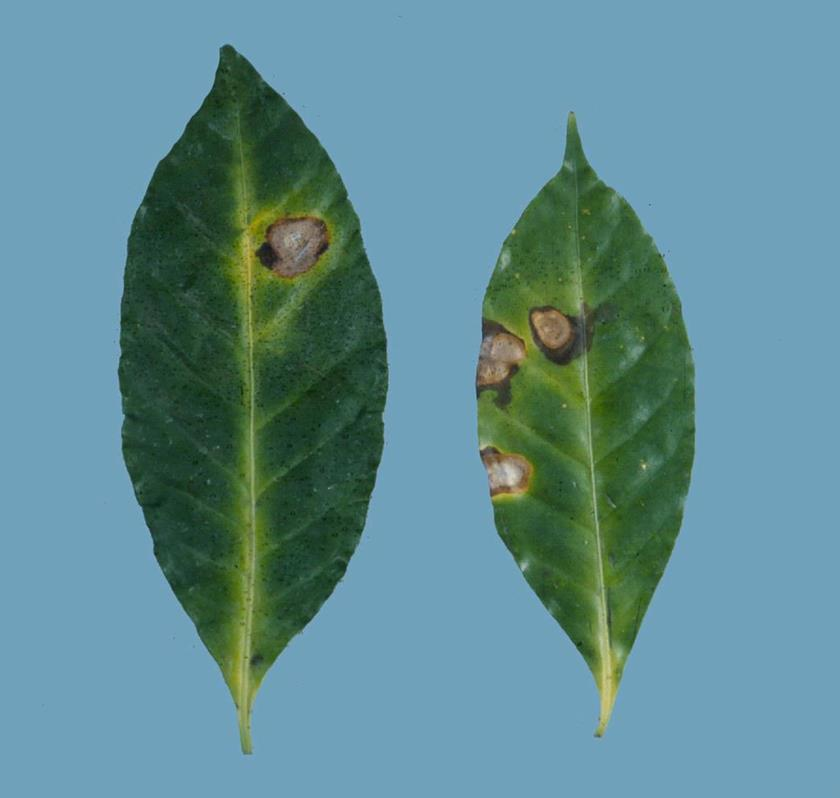unhealthy: (91, 30, 413, 741), (449, 115, 799, 718)
